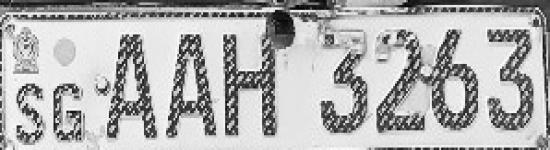2: (374, 23, 428, 137)
3: (314, 23, 370, 142), (483, 21, 537, 137)
6: (433, 24, 481, 137)
A: (100, 29, 162, 145), (166, 30, 218, 146)
G: (52, 77, 89, 145)
H: (222, 30, 282, 147)
S: (12, 79, 48, 146)
